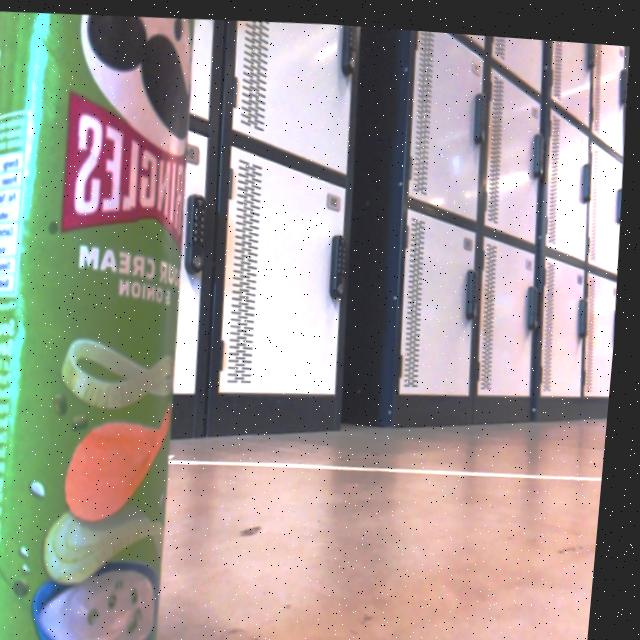greenpringles: (0, 4, 229, 640)
